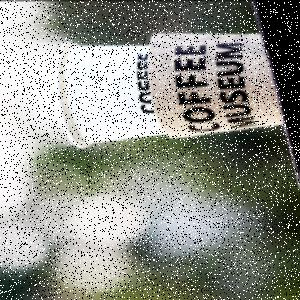Cup: (54, 41, 154, 149)
